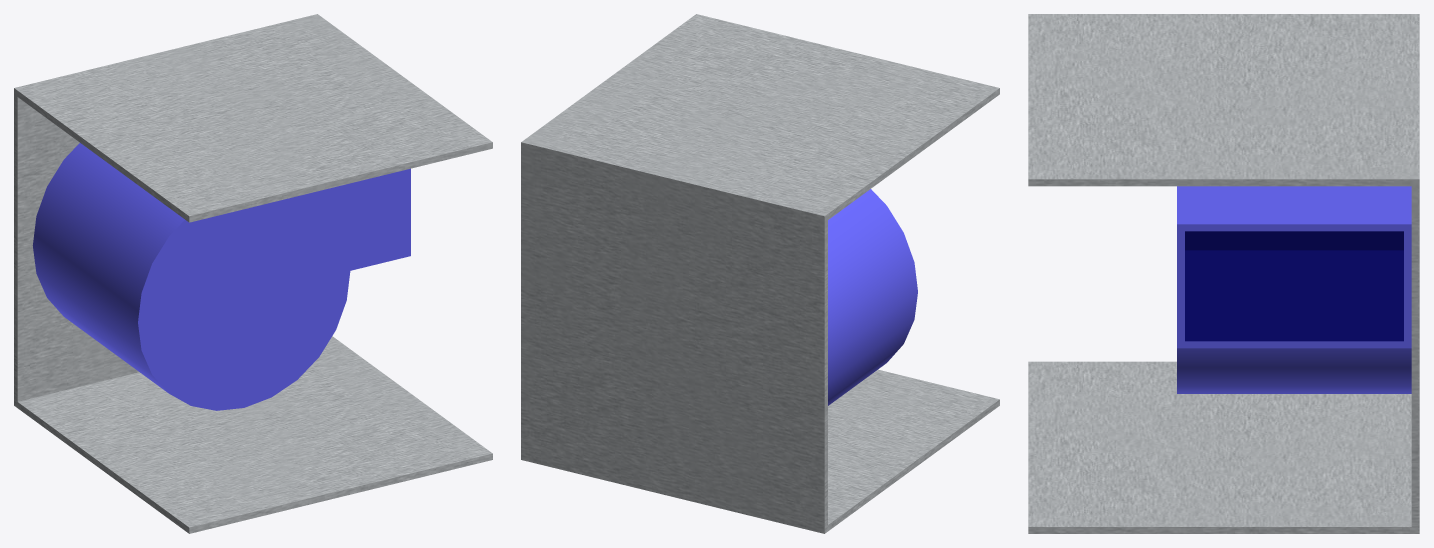
File: Duct_EW_RFan_1m.gltf
The picture shows the model from 3 angles, left to right: view 1: azimuth 30°, elevation 25°; view 2: azimuth 150°, elevation 25°; view 3: azimuth 270°, elevation 25°; orthographic projection. The views are drawn at different scales.
Parts seen in each view (by area): view 1: root; view 2: root; view 3: root.
Part boxes in pixels (x1,y1,x2,y2): root: (14,14,492,533); root: (521,14,999,533); root: (1028,14,1419,533).
Bounding box in the file's own units: 1 × 1 × 1.
Materials: 3 (1 with a texture image).
